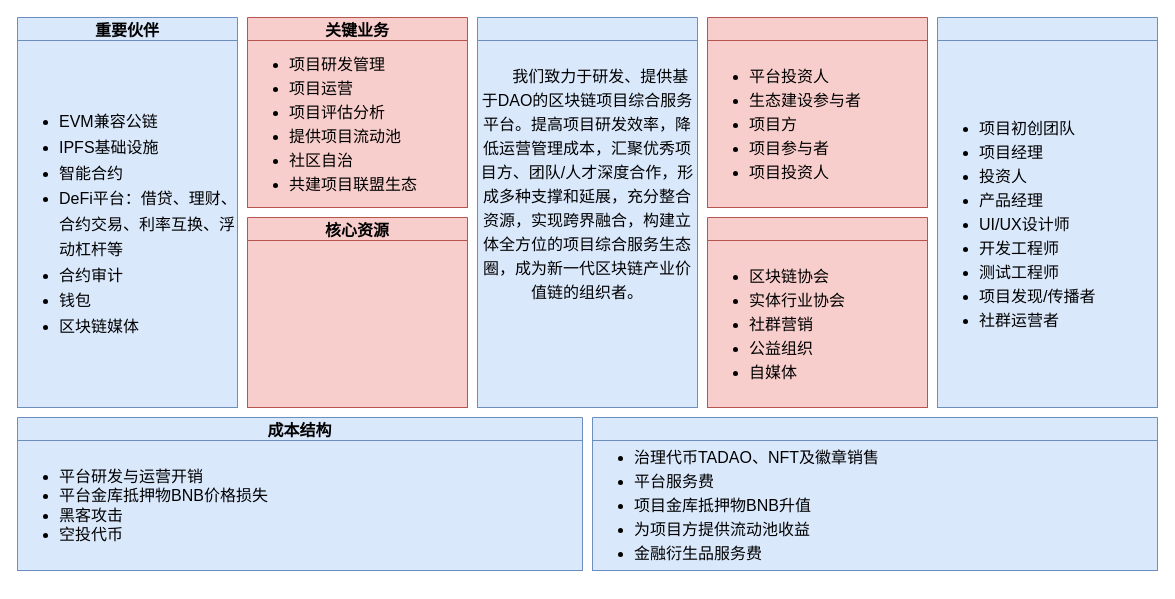
This 1175x599 diagram has some shape labels left out. Here are the shapes that lost their labels. From the top down, the box of each, then its label:
(706, 16, 928, 208): 客户关系
(476, 16, 698, 408): 价值主张
(936, 16, 1158, 408): 客户细分
(246, 240, 468, 408): 生态建设贡献者 项目联盟 社群关系及流量 强强联合
(706, 216, 928, 408): 渠道通路
(592, 416, 1158, 570): 收入来源
